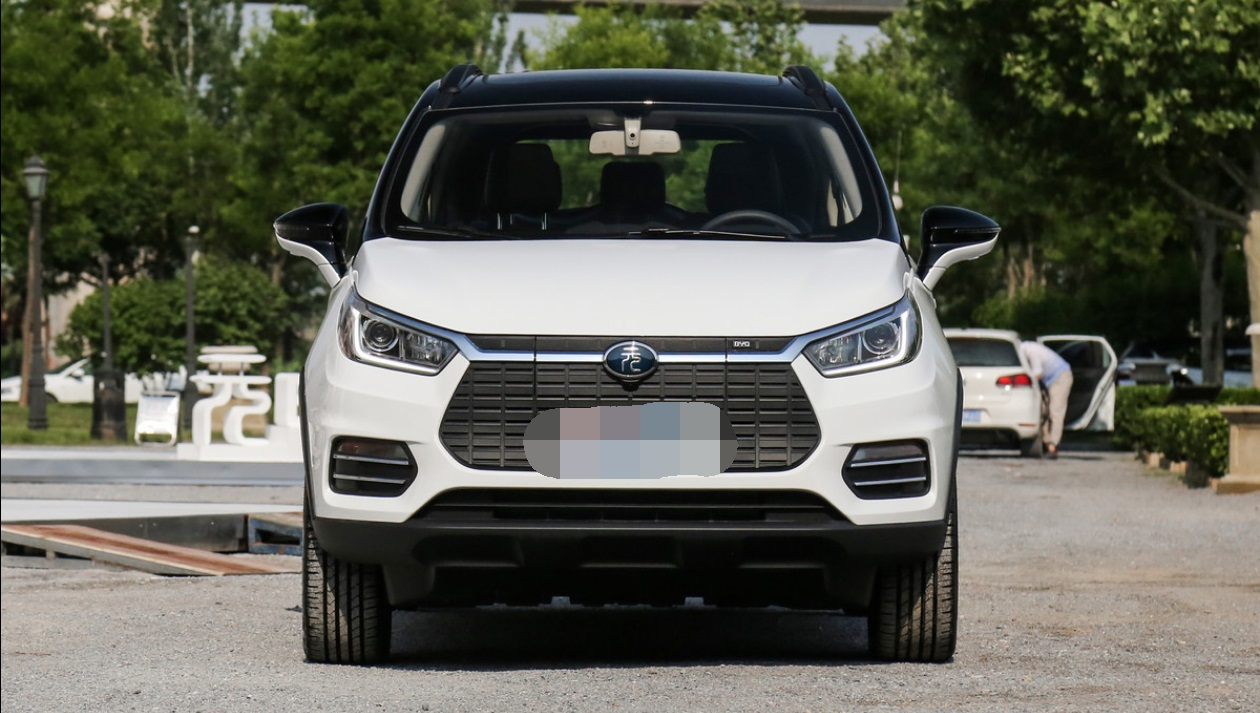SUV: (269, 64, 1005, 664)
